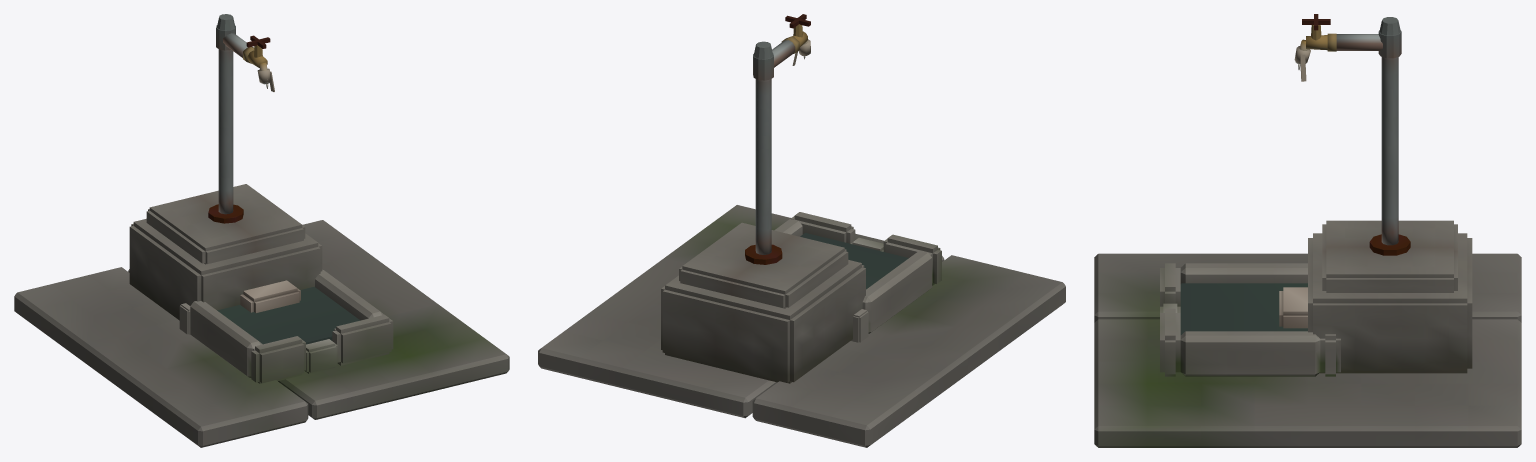
The model's file is tap_stand_v2.glb.
3 views of the same model, side by side, from view 1: azimuth 30°, elevation 25°; view 2: azimuth 150°, elevation 25°; view 3: azimuth 270°, elevation 25° (orthographic). The views are drawn at different scales.
Visible parts, largest first — view 1: hb_main, hb_metal, hb_brick; view 2: hb_main, hb_metal; view 3: hb_main, hb_metal, hb_brick.
Boxes of the visible parts, x1,y1,x2,y2 form: hb_main: (14,68,509,447); hb_metal: (208,14,270,223); hb_brick: (240,280,300,312); hb_main: (538,39,1065,447); hb_metal: (745,14,810,264); hb_main: (1094,46,1521,447); hb_metal: (1299,14,1410,255); hb_brick: (1279,287,1307,328).
Size of the model in its own units: 1 by 0.9205 by 1.04.
